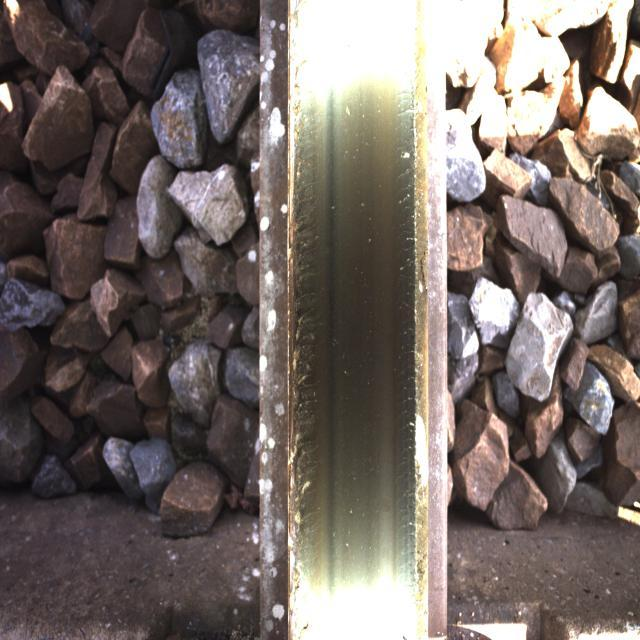normal: (311, 39, 414, 586)
